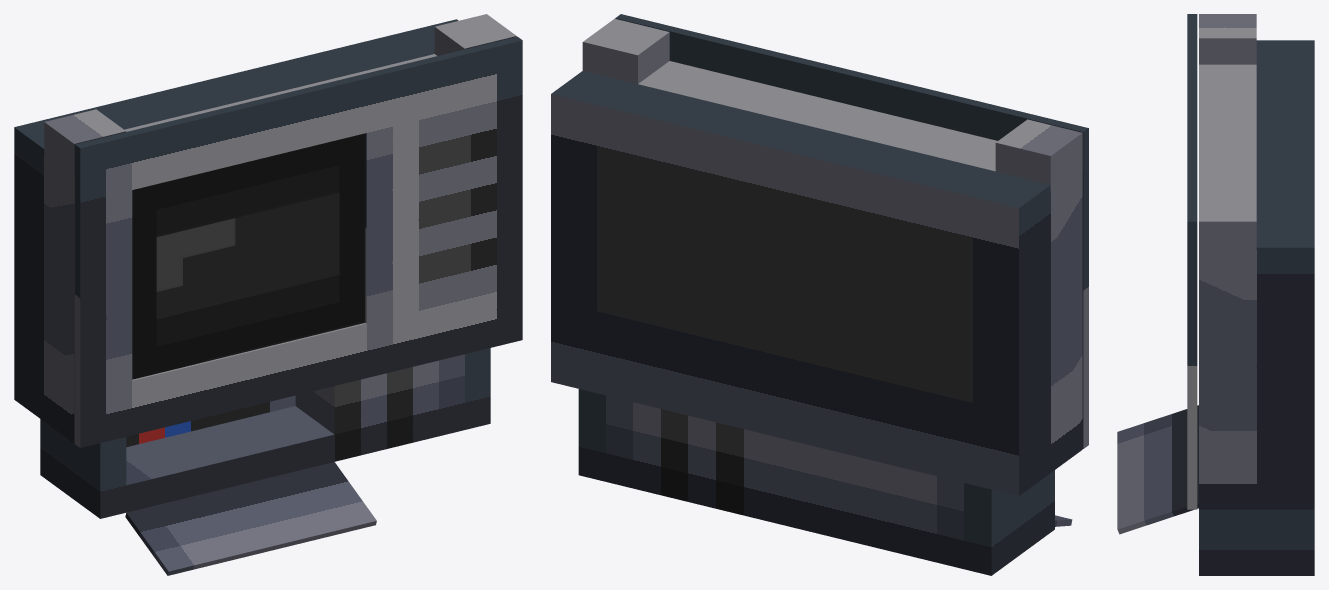
File: apc_wiring_open.glb
3 renders of one model, left to right at view 1: azimuth 30°, elevation 25°; view 2: azimuth 150°, elevation 25°; view 3: azimuth 270°, elevation 25°, orthographic. The views are drawn at different scales.
Parts seen in each view (by area): view 1: Main_Cover, Display_Glass, Lined_Enclosure, Lower_Control_Housing, Wiring_Cover, Wire_Terminal_Block; view 2: Lined_Enclosure, Lower_Control_Housing, Main_Cover; view 3: Lined_Enclosure, Lower_Control_Housing, Wiring_Cover, Main_Cover.
Part boxes in pixels (box(x1,y1,x2,y2)): Main_Cover: box(75, 36, 522, 447); Display_Glass: box(132, 133, 365, 379); Lined_Enclosure: box(14, 14, 516, 443); Lower_Control_Housing: box(40, 348, 490, 518); Wiring_Cover: box(125, 462, 376, 575); Wire_Terminal_Block: box(126, 395, 295, 447); Lined_Enclosure: box(551, 18, 1082, 495); Lower_Control_Housing: box(578, 389, 1054, 575); Main_Cover: box(615, 14, 1088, 448); Lined_Enclosure: box(1199, 14, 1314, 509); Lower_Control_Housing: box(1199, 509, 1314, 575); Wiring_Cover: box(1117, 405, 1198, 534); Main_Cover: box(1187, 14, 1197, 509).
Bounding box in the file's own units: 0.4781 × 0.4279 × 0.1918.
Materials: 2 (2 with a texture image).
